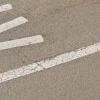Crosswalk: (2, 3, 54, 81)
